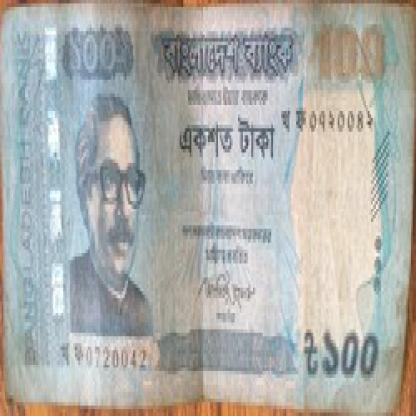one hundred taka: (310, 14, 390, 93), (318, 322, 384, 382), (63, 28, 128, 83)
